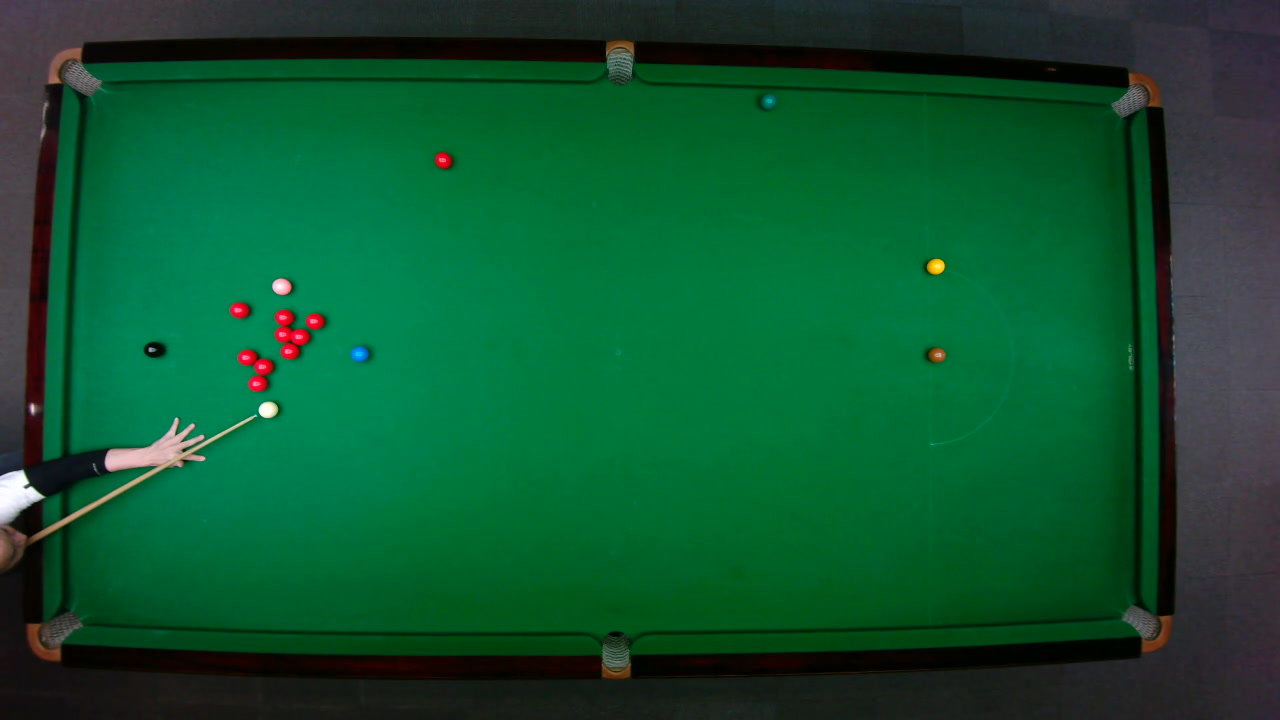bag: (25, 609, 84, 661), (46, 46, 101, 96), (1119, 603, 1172, 652), (1108, 71, 1161, 118), (600, 629, 630, 680), (605, 38, 633, 85)
black: (142, 340, 163, 357)
blue: (350, 344, 369, 362)
brown: (926, 346, 946, 362)
cue: (18, 411, 261, 548)
green: (759, 92, 776, 110)
pink: (270, 276, 292, 295)
red: (287, 326, 310, 345), (252, 356, 274, 375), (235, 347, 258, 365), (273, 307, 294, 326), (246, 374, 268, 392), (228, 300, 250, 318), (278, 342, 300, 359), (433, 150, 452, 169), (304, 311, 324, 329), (272, 325, 293, 342)
white: (257, 399, 279, 418)
yellow: (925, 257, 945, 274)
zone: (926, 267, 1014, 445)
